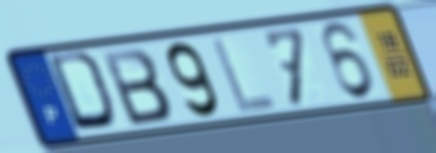6: (320, 19, 377, 102)
7: (260, 24, 307, 109)
9: (164, 40, 220, 119)
B: (98, 46, 173, 128)
D: (45, 49, 124, 134)
L: (208, 33, 281, 117)
